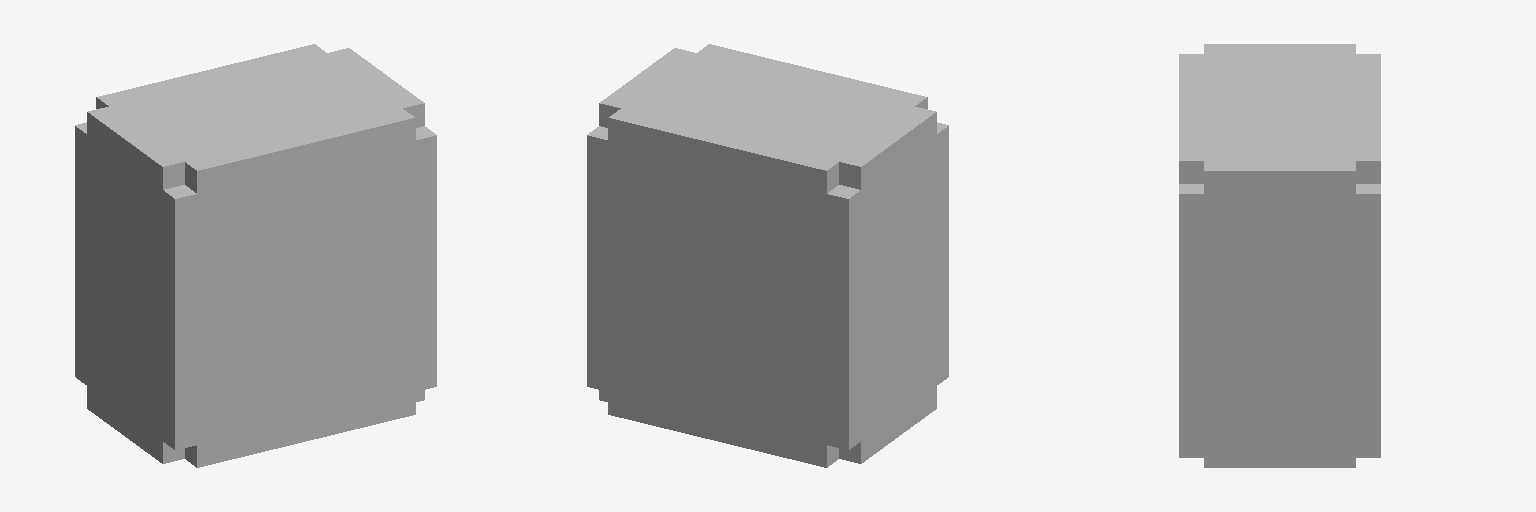
File: BombBdy.obj
The picture shows the model from 3 angles: view 1: azimuth 30°, elevation 25°; view 2: azimuth 150°, elevation 25°; view 3: azimuth 270°, elevation 25°; orthographic projection.
Visible parts, largest first — view 1: bomberman.003; view 2: bomberman.003; view 3: bomberman.003.
Part boxes in pixels (x1,y1,x2,y2): bomberman.003: (75, 44, 436, 467); bomberman.003: (587, 44, 948, 467); bomberman.003: (1179, 44, 1380, 467).
Size of the model in its own units: 1.2 by 1.3 by 0.8.